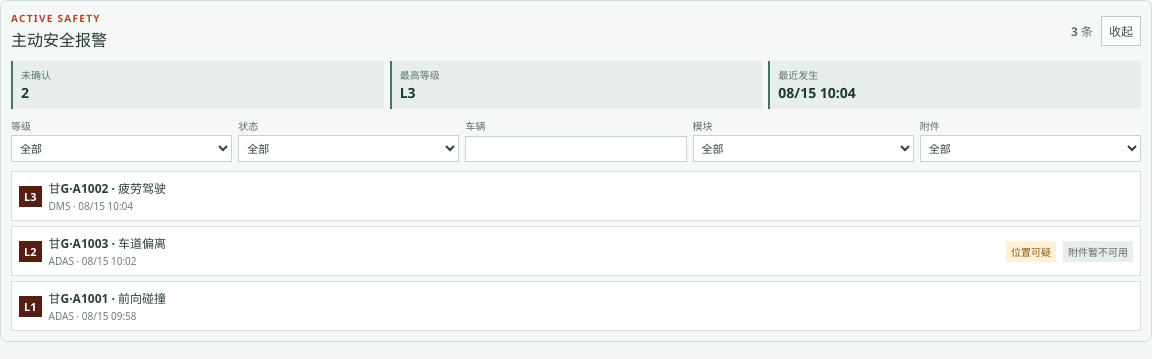
Test: AlarmBoard › keeps new alarms first while exposing operational summaries and every requested filter
Expected: the text "未确认" is shown, 21,68 -> 51,82
Expected: the text "最高等级" is shown, 400,68 -> 440,82
Select "DMS" in the dropdown named "报警模块". click: (803, 148)
box: 693,135 -> 914,162
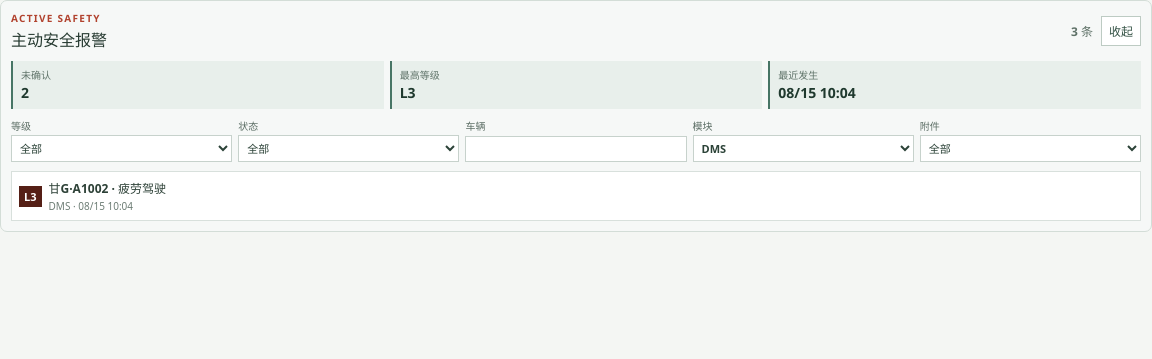
Now the number of buttons named "查看报警" is 1, box 11,171 -> 1141,221
Select "全部" in the dropdown named "报警模块". click: (803, 148)
box: 693,135 -> 914,162
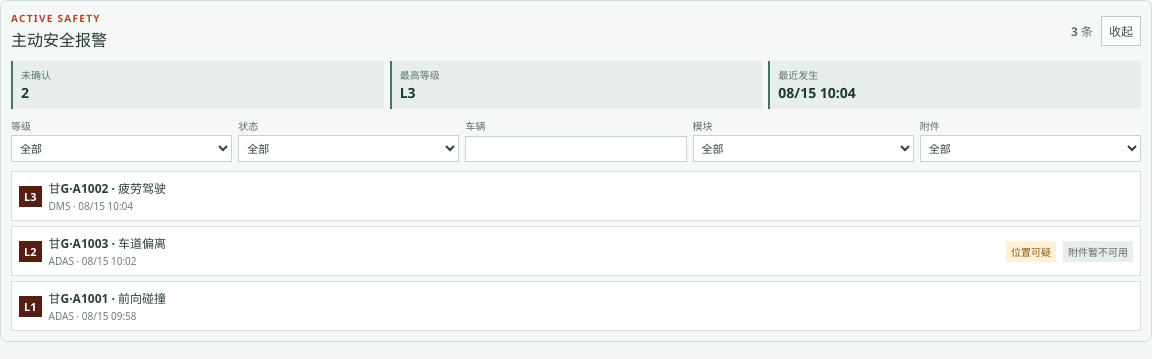
Type "甘G·A1001" into the field named "车辆车牌". click: (576, 149)
box: 465,136 -> 687,162
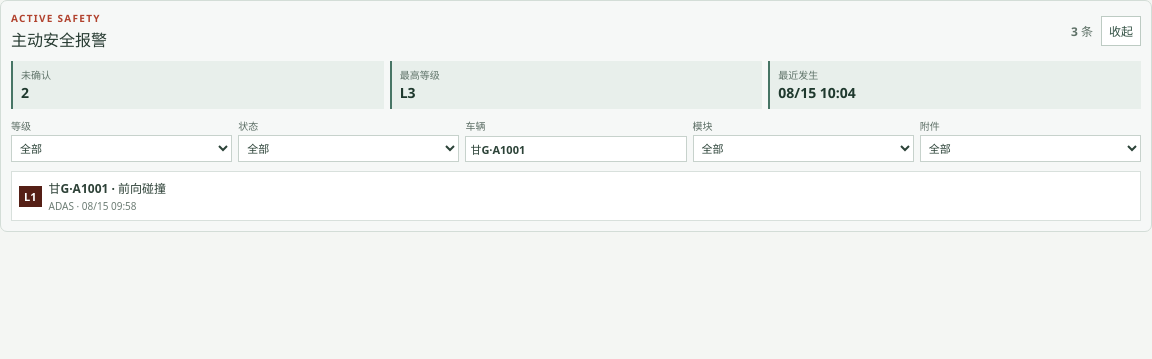
Now the number of buttons named "查看报警" is 1, box 11,171 -> 1141,221
